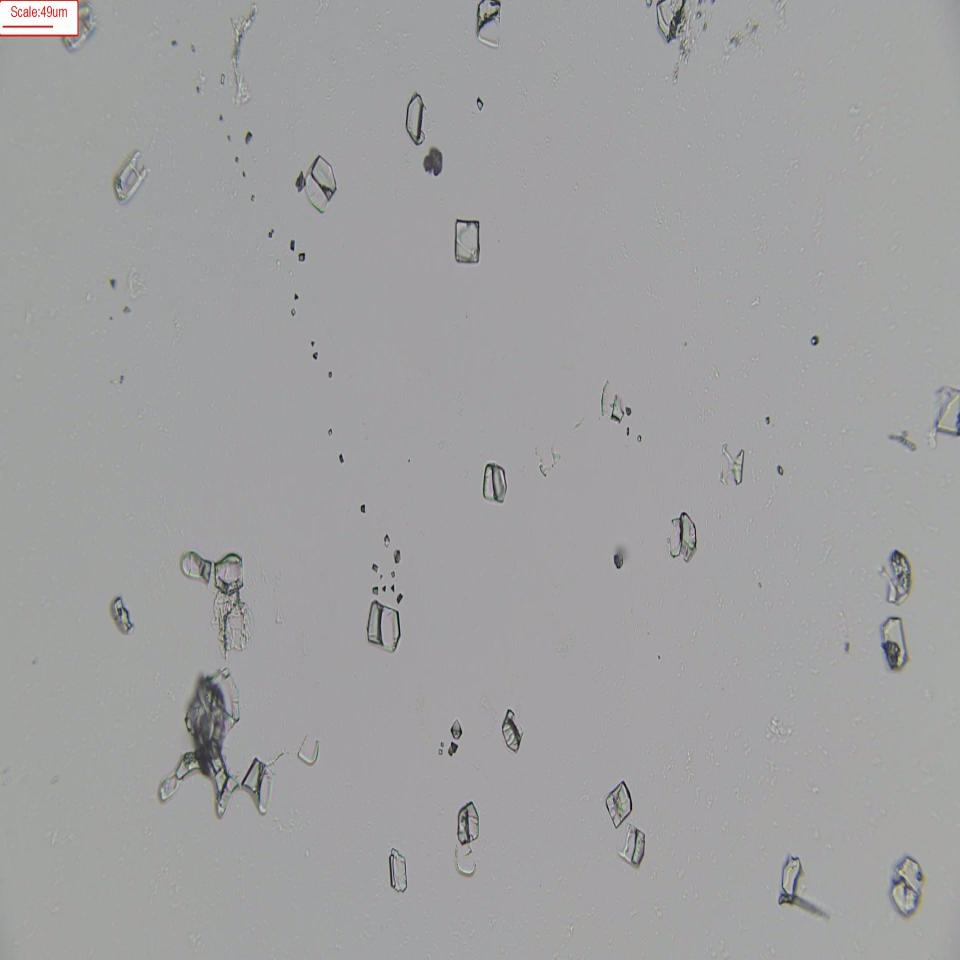crystal: (450, 212, 488, 270), (366, 594, 401, 656), (892, 850, 923, 917), (304, 153, 337, 214), (384, 844, 410, 900), (404, 80, 424, 150), (602, 778, 634, 820), (456, 796, 480, 847), (483, 463, 508, 508), (500, 715, 524, 755), (296, 732, 321, 770), (422, 146, 448, 180), (959, 856, 960, 858)
